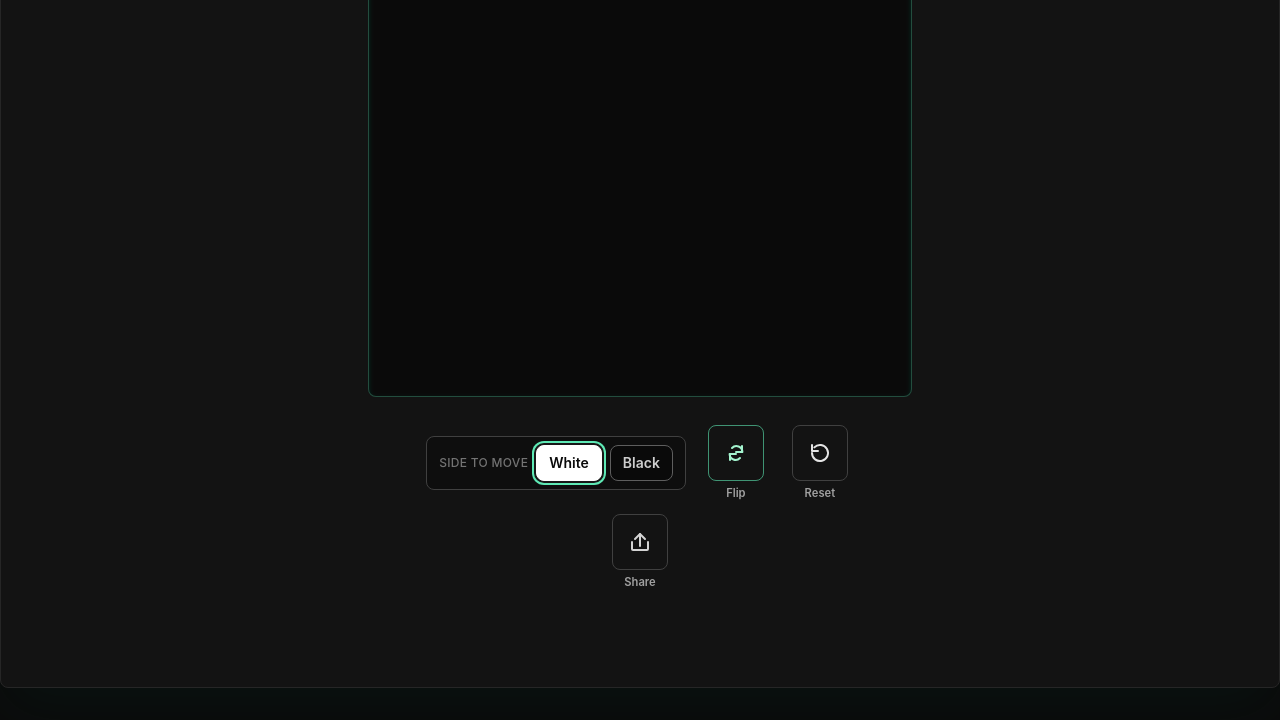
Scenario: App › shows a modal FEN copy failure state when clipboard writing fails
This screenshot has width=1280, height=720.
(page scrolled)
Click the button named "Share": (640, 542) 612,514 -> 668,570
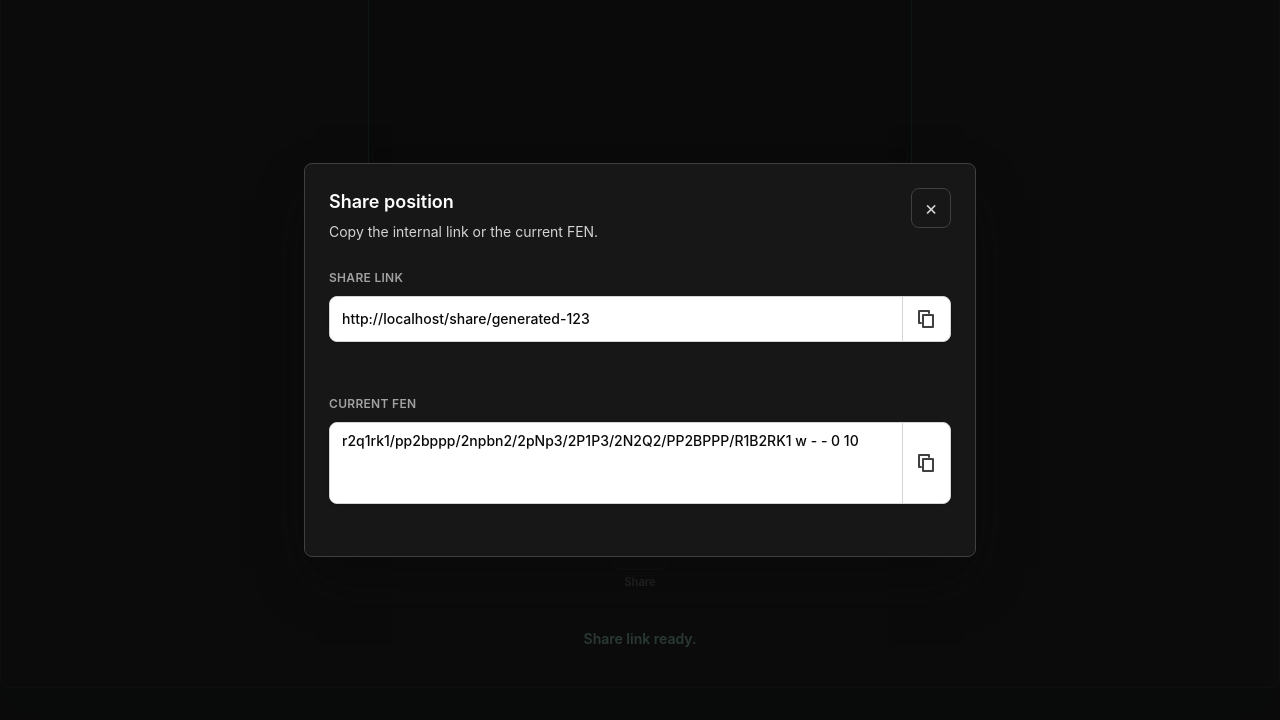
Expected: the dialog "Share position" is shown
Click the button named "Copy current FEN": (926, 463) 902,423 -> 950,503
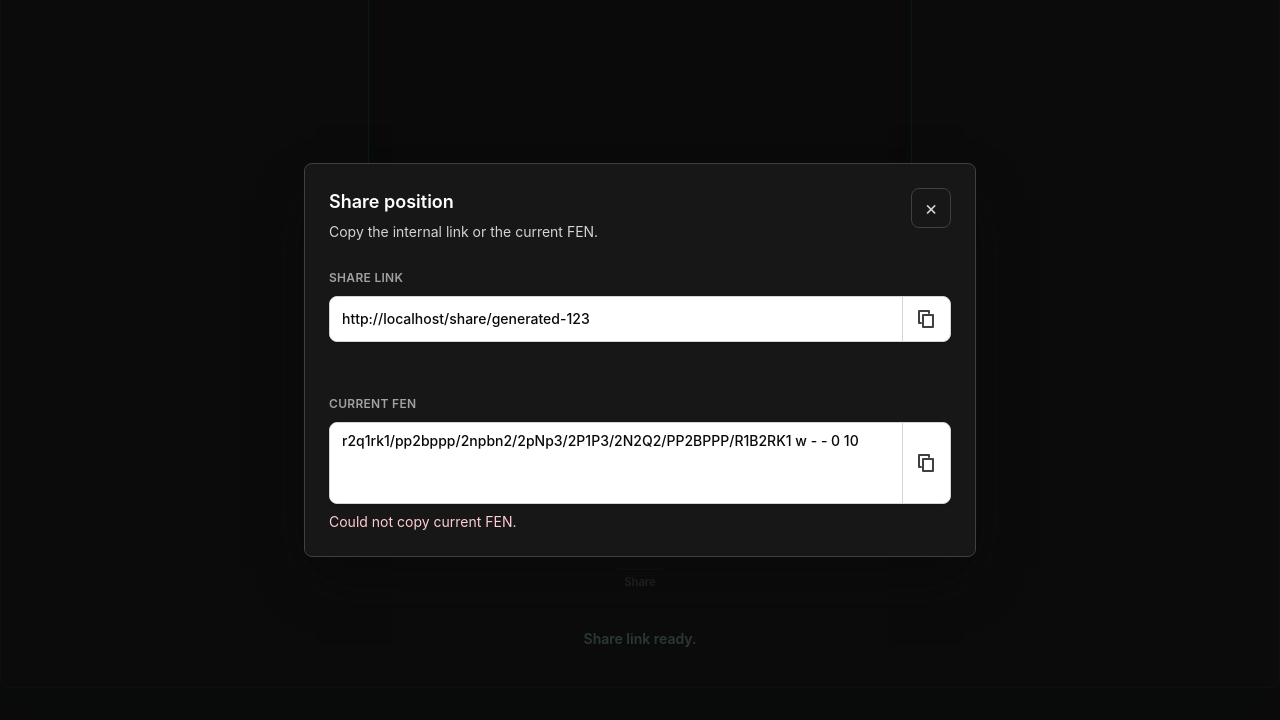
Expected: the text "Could not copy current FEN." is shown, 329,513 -> 516,530
